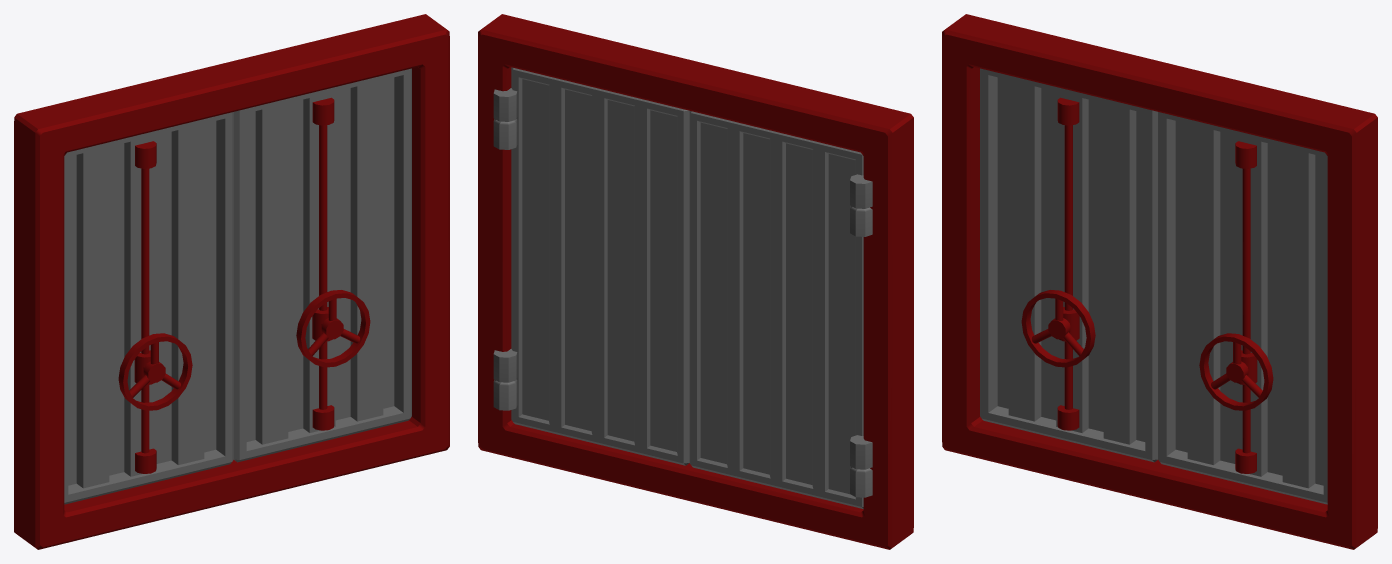
File: SM_Door_01.fbx
The picture shows the model from 3 angles, left to right: view 1: azimuth 30°, elevation 25°; view 2: azimuth 150°, elevation 25°; view 3: azimuth 330°, elevation 25°; orthographic projection.
Visible parts, largest first — view 1: SM_Door_Frame_01, SM_Door_R, SM_Door_L, SM_Door_Wheel_L, SM_Door_Wheel_R; view 2: SM_Door_Frame_01, SM_Door_R, SM_Door_L; view 3: SM_Door_Frame_01, SM_Door_L, SM_Door_R, SM_Door_Wheel_R, SM_Door_Wheel_L.
Boxes of the visible parts, left/top/right/bottom form: SM_Door_Frame_01: left=14, top=14, right=449, bottom=549; SM_Door_R: left=234, top=68, right=411, bottom=462; SM_Door_L: left=64, top=112, right=233, bottom=504; SM_Door_Wheel_L: left=118, top=333, right=192, bottom=410; SM_Door_Wheel_R: left=296, top=290, right=370, bottom=367; SM_Door_Frame_01: left=478, top=14, right=913, bottom=549; SM_Door_R: left=493, top=67, right=689, bottom=465; SM_Door_L: left=689, top=111, right=872, bottom=508; SM_Door_Frame_01: left=942, top=14, right=1377, bottom=549; SM_Door_L: left=980, top=68, right=1157, bottom=462; SM_Door_R: left=1158, top=112, right=1327, bottom=504; SM_Door_Wheel_R: left=1199, top=333, right=1273, bottom=410; SM_Door_Wheel_L: left=1021, top=290, right=1095, bottom=367.
Bounding box in the file's own units: 465 × 451 × 64.53.
